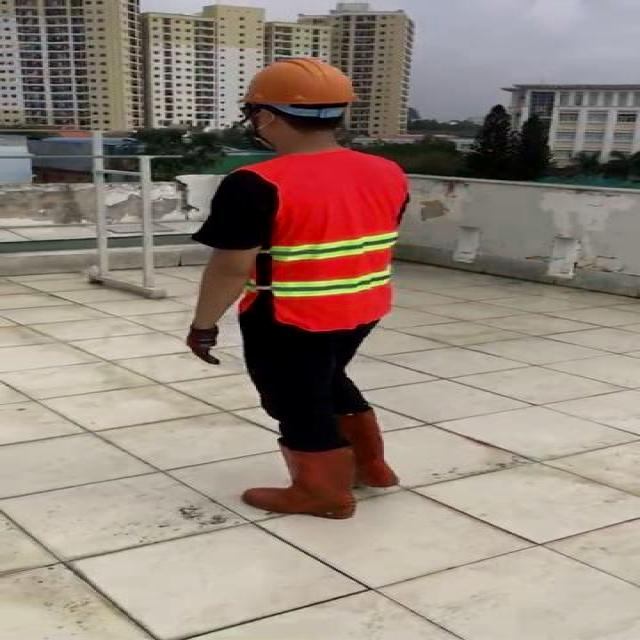boots: (238, 439, 358, 519), (306, 410, 396, 492)
hand_glove: (185, 325, 220, 365)
head_helmet: (234, 54, 364, 108)
person: (176, 54, 420, 522)
vest: (245, 151, 409, 329)
